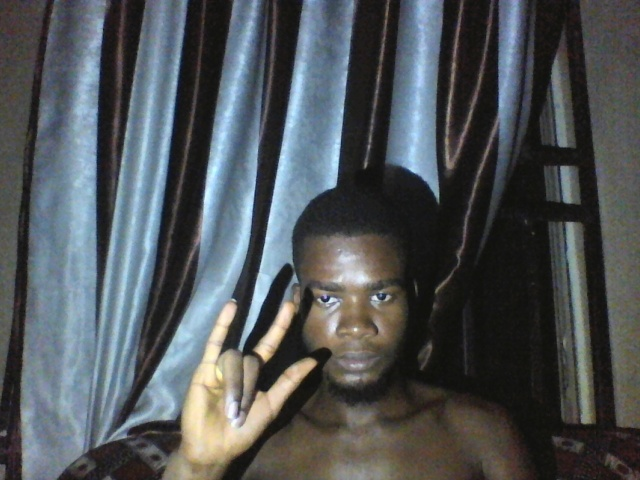i love you: (177, 298, 322, 469)
